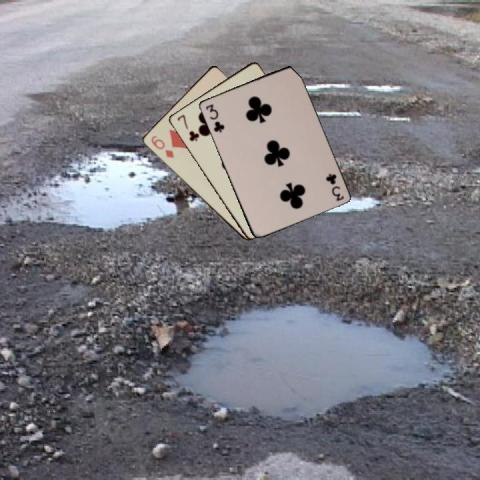3c: (203, 102, 226, 134), (323, 170, 345, 203)
6d: (148, 133, 175, 159)
7c: (174, 111, 199, 143)
